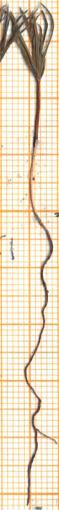flower: (10, 1, 59, 89)
root: (21, 219, 59, 505)
stem: (23, 81, 45, 218)
